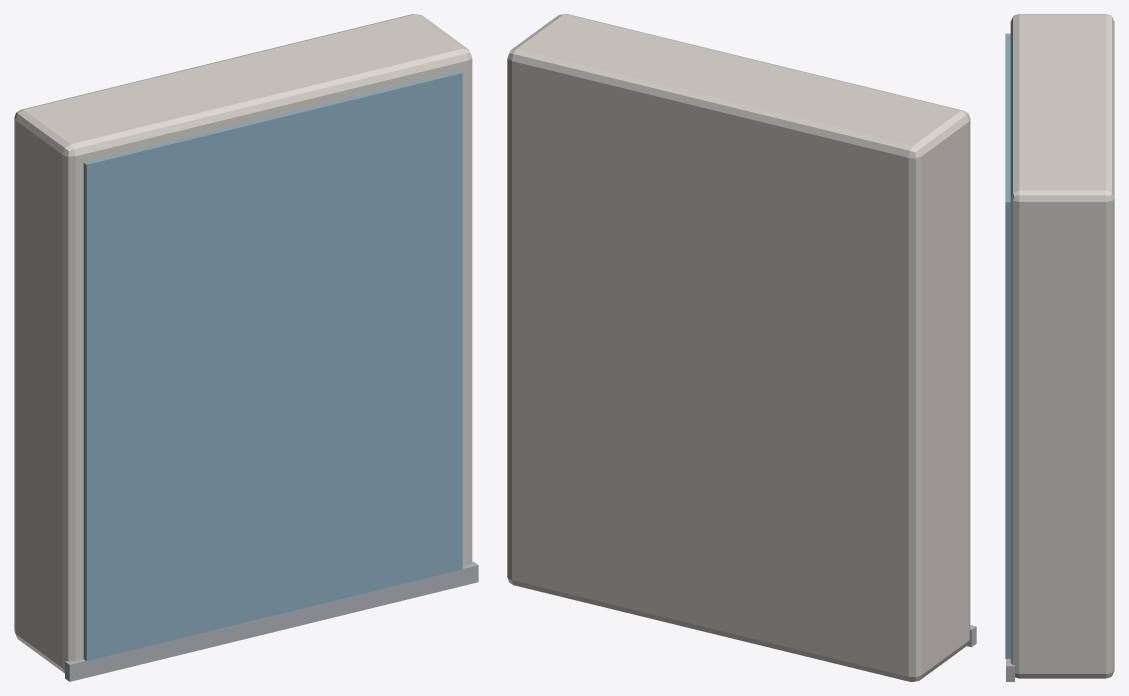
The model's file is hh_mirror_cabinet.glb.
The picture shows the model from 3 angles, left to right: view 1: azimuth 30°, elevation 25°; view 2: azimuth 150°, elevation 25°; view 3: azimuth 270°, elevation 25°; orthographic projection. The views are drawn at different scales.
Parts seen in each view (by area): view 1: mirror, body, trim; view 2: body; view 3: body, mirror.
Part boxes in pixels (x1=…): mirror: x1=83, y1=71, x2=462, y2=661; body: x1=14, y1=14, x2=472, y2=673; trim: x1=65, y1=561, x2=478, y2=681; body: x1=507, y1=14, x2=970, y2=681; body: x1=1010, y1=14, x2=1114, y2=678; mirror: x1=1005, y1=33, x2=1010, y2=658.
Size of the model in its own units: 0.5 by 0.62 by 0.126.
